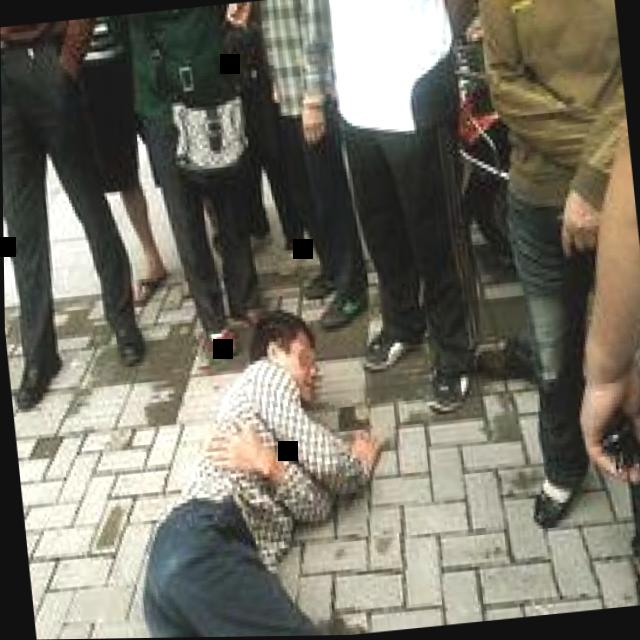Fall-Detected: (101, 253, 429, 639)
